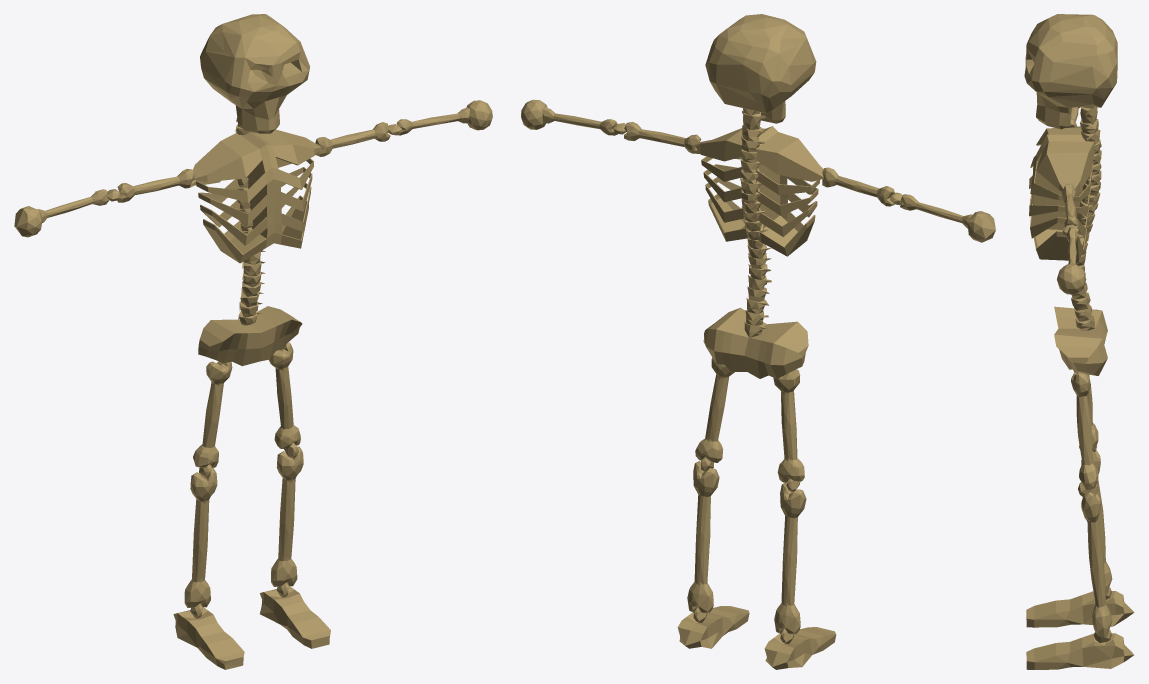
Rendered from EsqueletoV6.fbx.
3 renders of one model, left to right at view 1: azimuth 30°, elevation 25°; view 2: azimuth 150°, elevation 25°; view 3: azimuth 270°, elevation 25°, orthographic.
Visible parts, largest first — view 1: Cylinder; view 2: Cylinder; view 3: Cylinder.
Part boxes in pixels (x1,y1,x2,y2): Cylinder: [14, 14, 492, 669]; Cylinder: [521, 14, 995, 669]; Cylinder: [1024, 14, 1134, 669].
Bounding box in the file's own units: 570 × 713 × 114.
